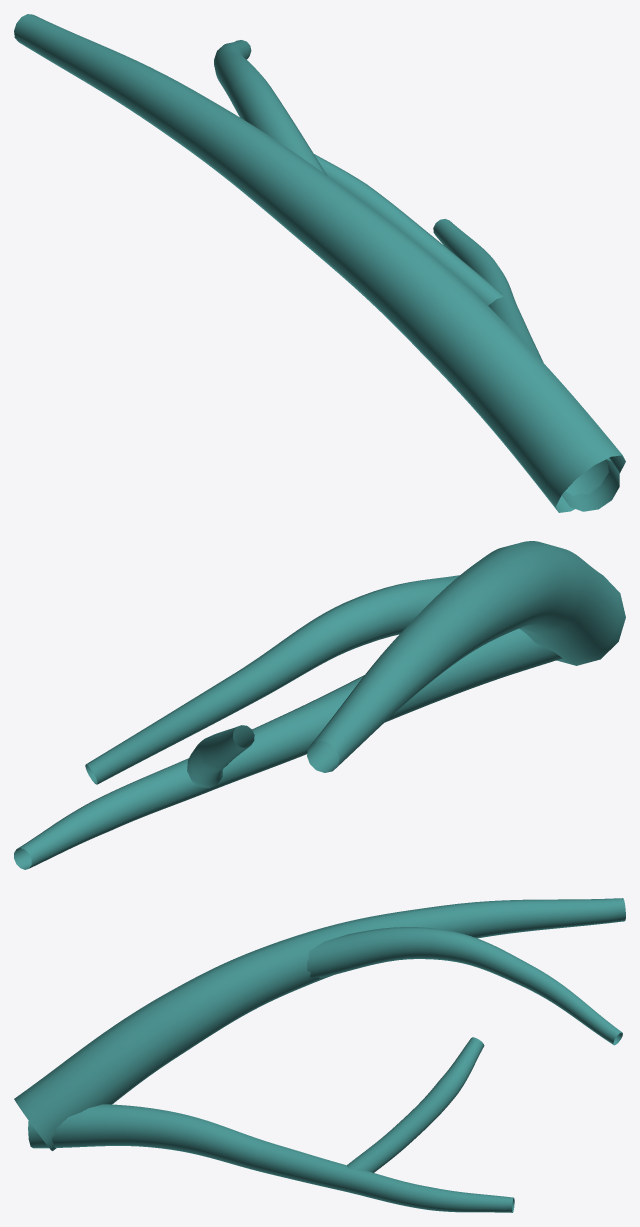
3 views of the same model, one above another, from view 1: azimuth 30°, elevation 25°; view 2: azimuth 150°, elevation 25°; view 3: azimuth 270°, elevation 25° (orthographic). The views are drawn at different scales.
Visible parts, largest first — view 1: 右肺后底段支气管（第10段）; view 2: 右肺后底段支气管（第10段）; view 3: 右肺后底段支气管（第10段）.
Boxes of the visible parts, bbox=[...] form: 右肺后底段支气管（第10段）: bbox=[14, 14, 625, 512]; 右肺后底段支气管（第10段）: bbox=[14, 541, 625, 869]; 右肺后底段支气管（第10段）: bbox=[14, 898, 625, 1212].
Size of the model in its own units: 0.0595 by 0.0409 by 0.116.
